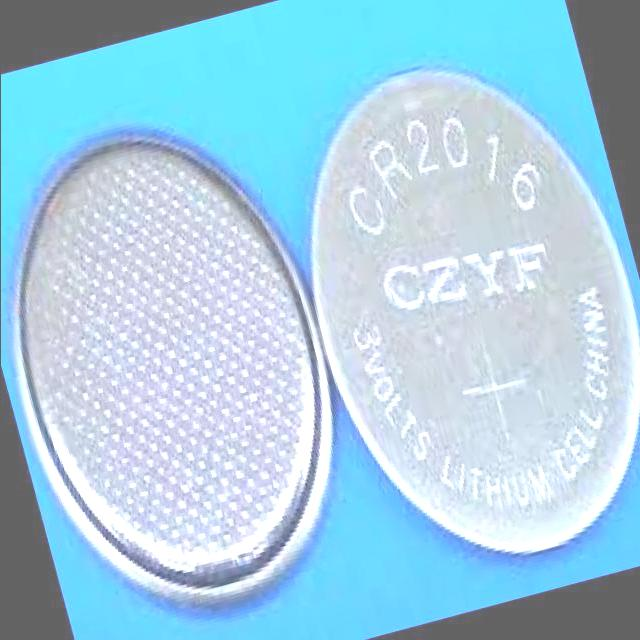COIN: (258, 23, 640, 590), (0, 86, 382, 640)
